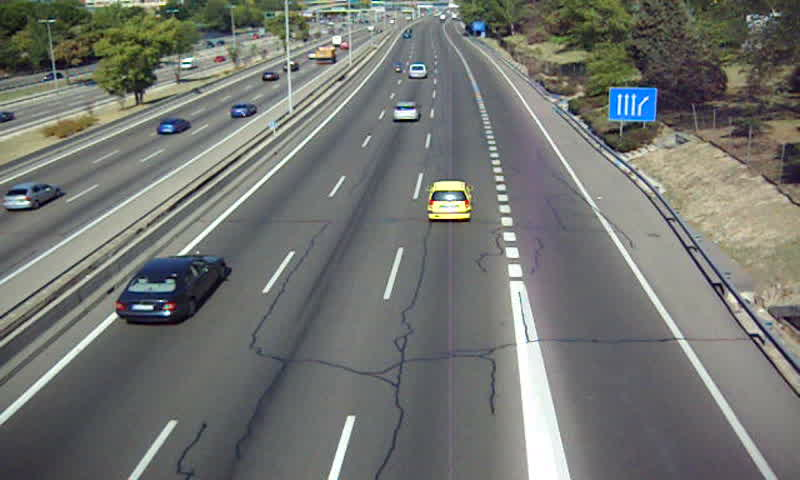car: (115, 254, 227, 321), (429, 180, 471, 220), (394, 101, 420, 121), (409, 62, 428, 80)
